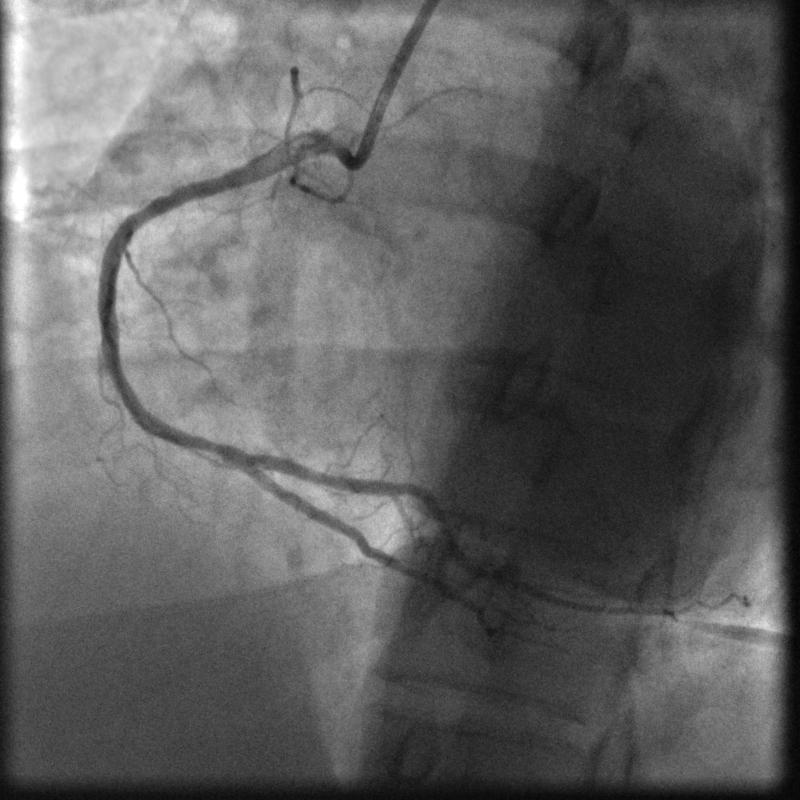Stenosis: (186, 425, 236, 468)
